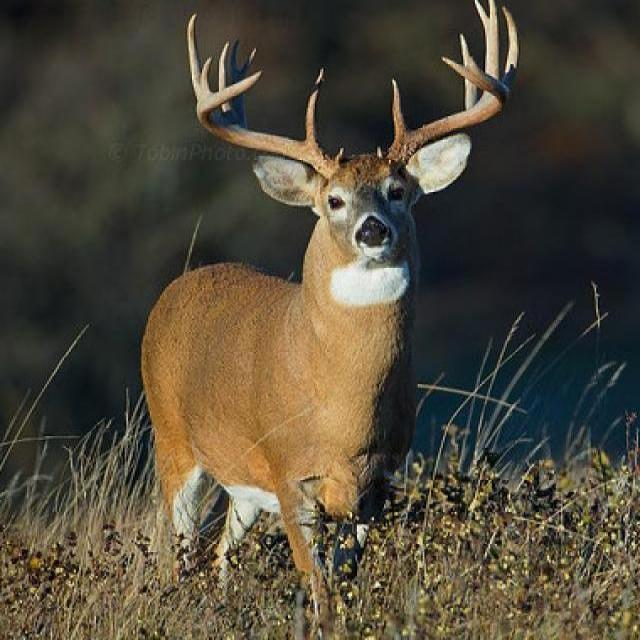deer: (140, 4, 532, 575)
